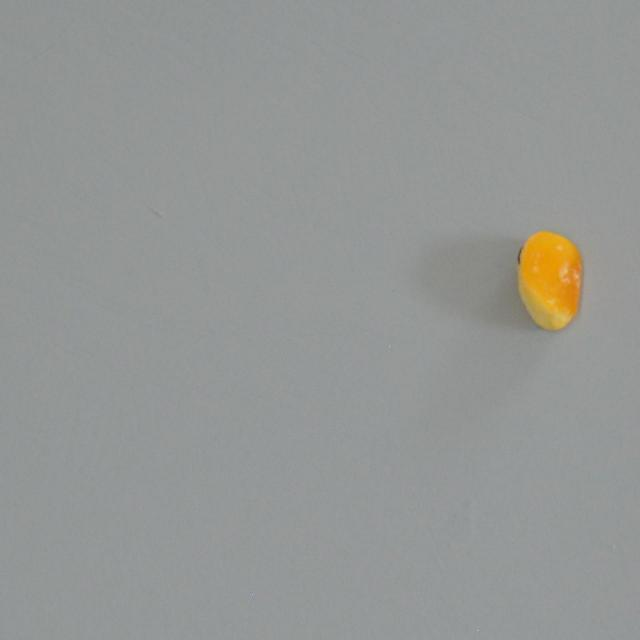punto_negro: (508, 228, 582, 336)
